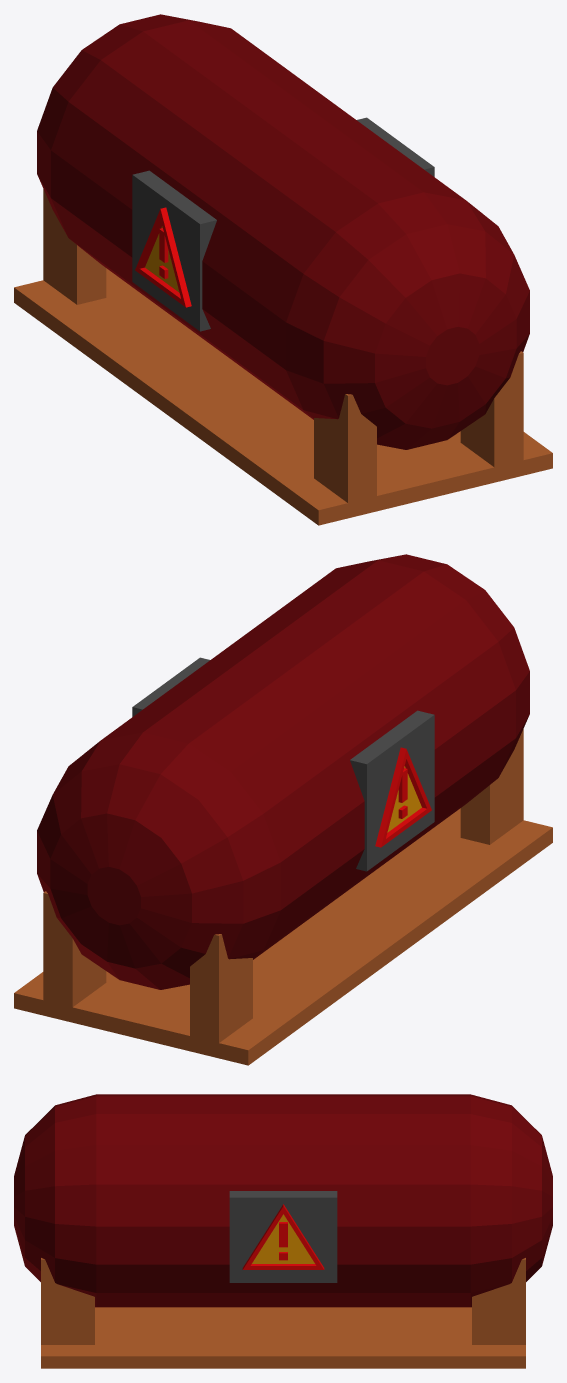
Rendered from container-2.glb.
3 views of the same model, one above another, from view 1: azimuth 30°, elevation 25°; view 2: azimuth 150°, elevation 25°; view 3: azimuth 270°, elevation 25° (orthographic). The views are drawn at different scales.
Parts seen in each view (by area): view 1: tank; view 2: tank; view 3: tank.
Boxes of the visible parts, left/top/right/bottom form: tank: left=14, top=14, right=552, bottom=525; tank: left=14, top=554, right=552, bottom=1065; tank: left=14, top=1094, right=552, bottom=1368.
Bounding box in the file's own units: 8.4 × 8.92 × 20.
